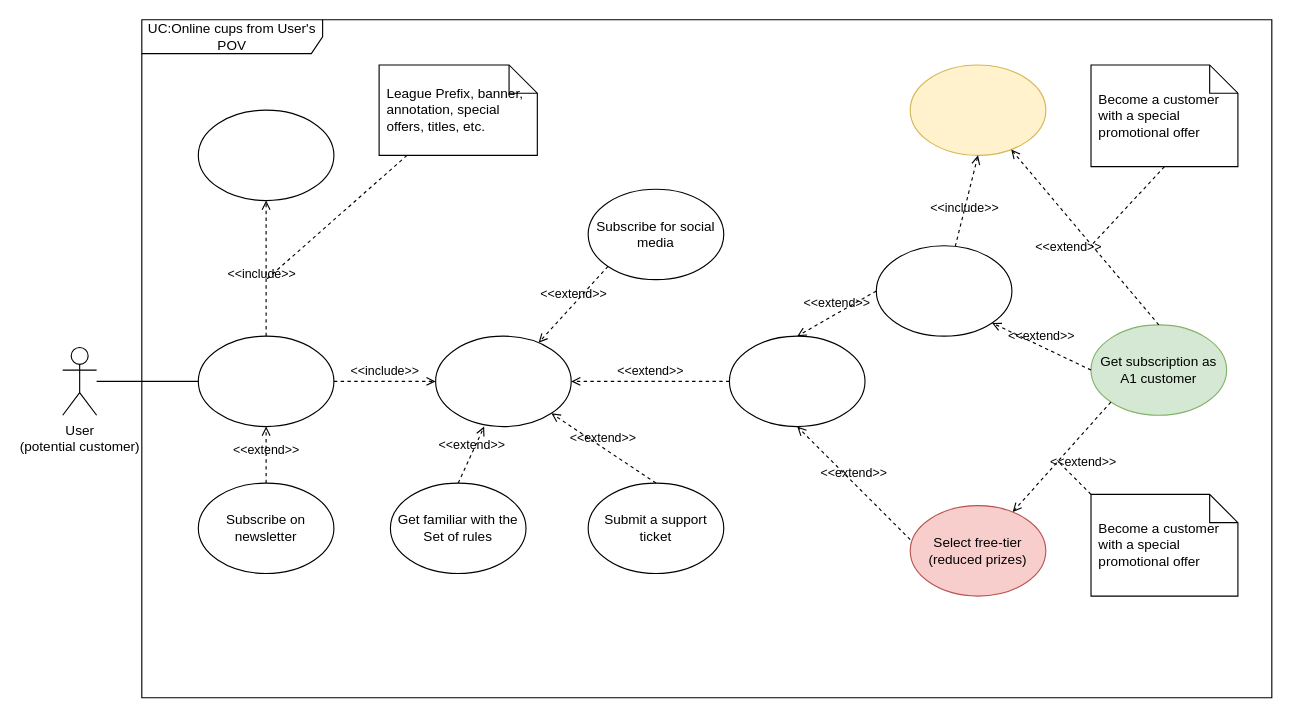
Image size: 1292x718. Some labels were removed from this diagram. Here are the shapes that lost their labels. From the top down, the centre of each, then its label:
the point at 977,109: Paid subscription on the League Pass
the point at 265,155: Check information about sponsor
the point at 943,290: Select A1 League Pass
the point at 265,381: Open page
the point at 502,381: Check general information of a cup
the point at 796,381: Sign Up (for open tournaments)
